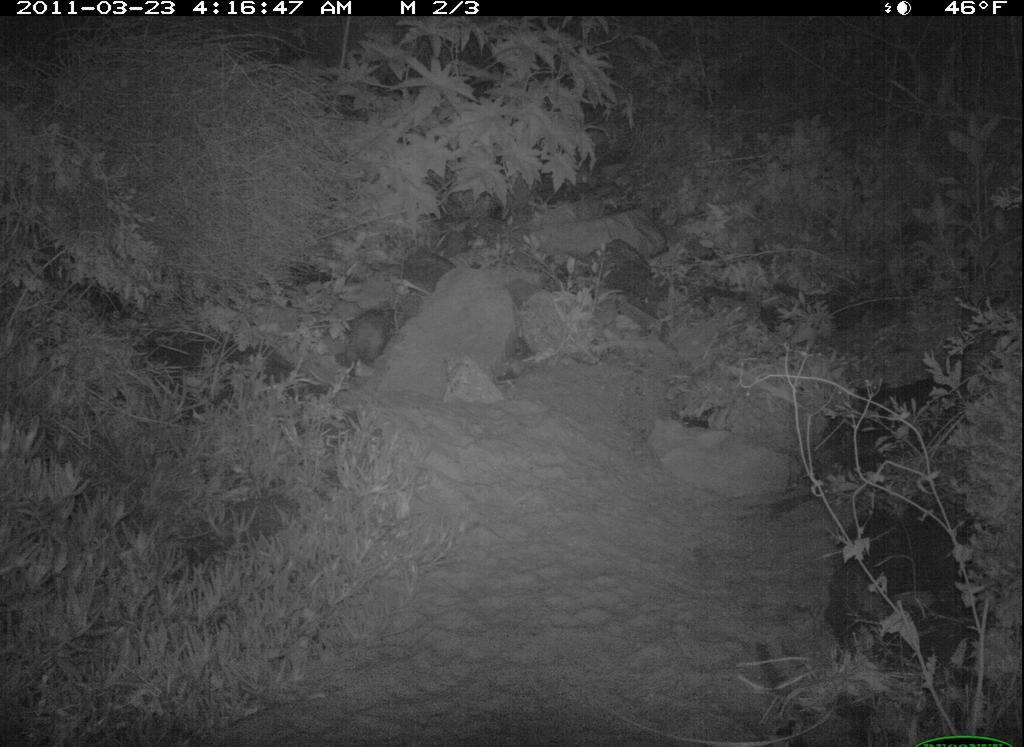opossum: (330, 303, 406, 385)
